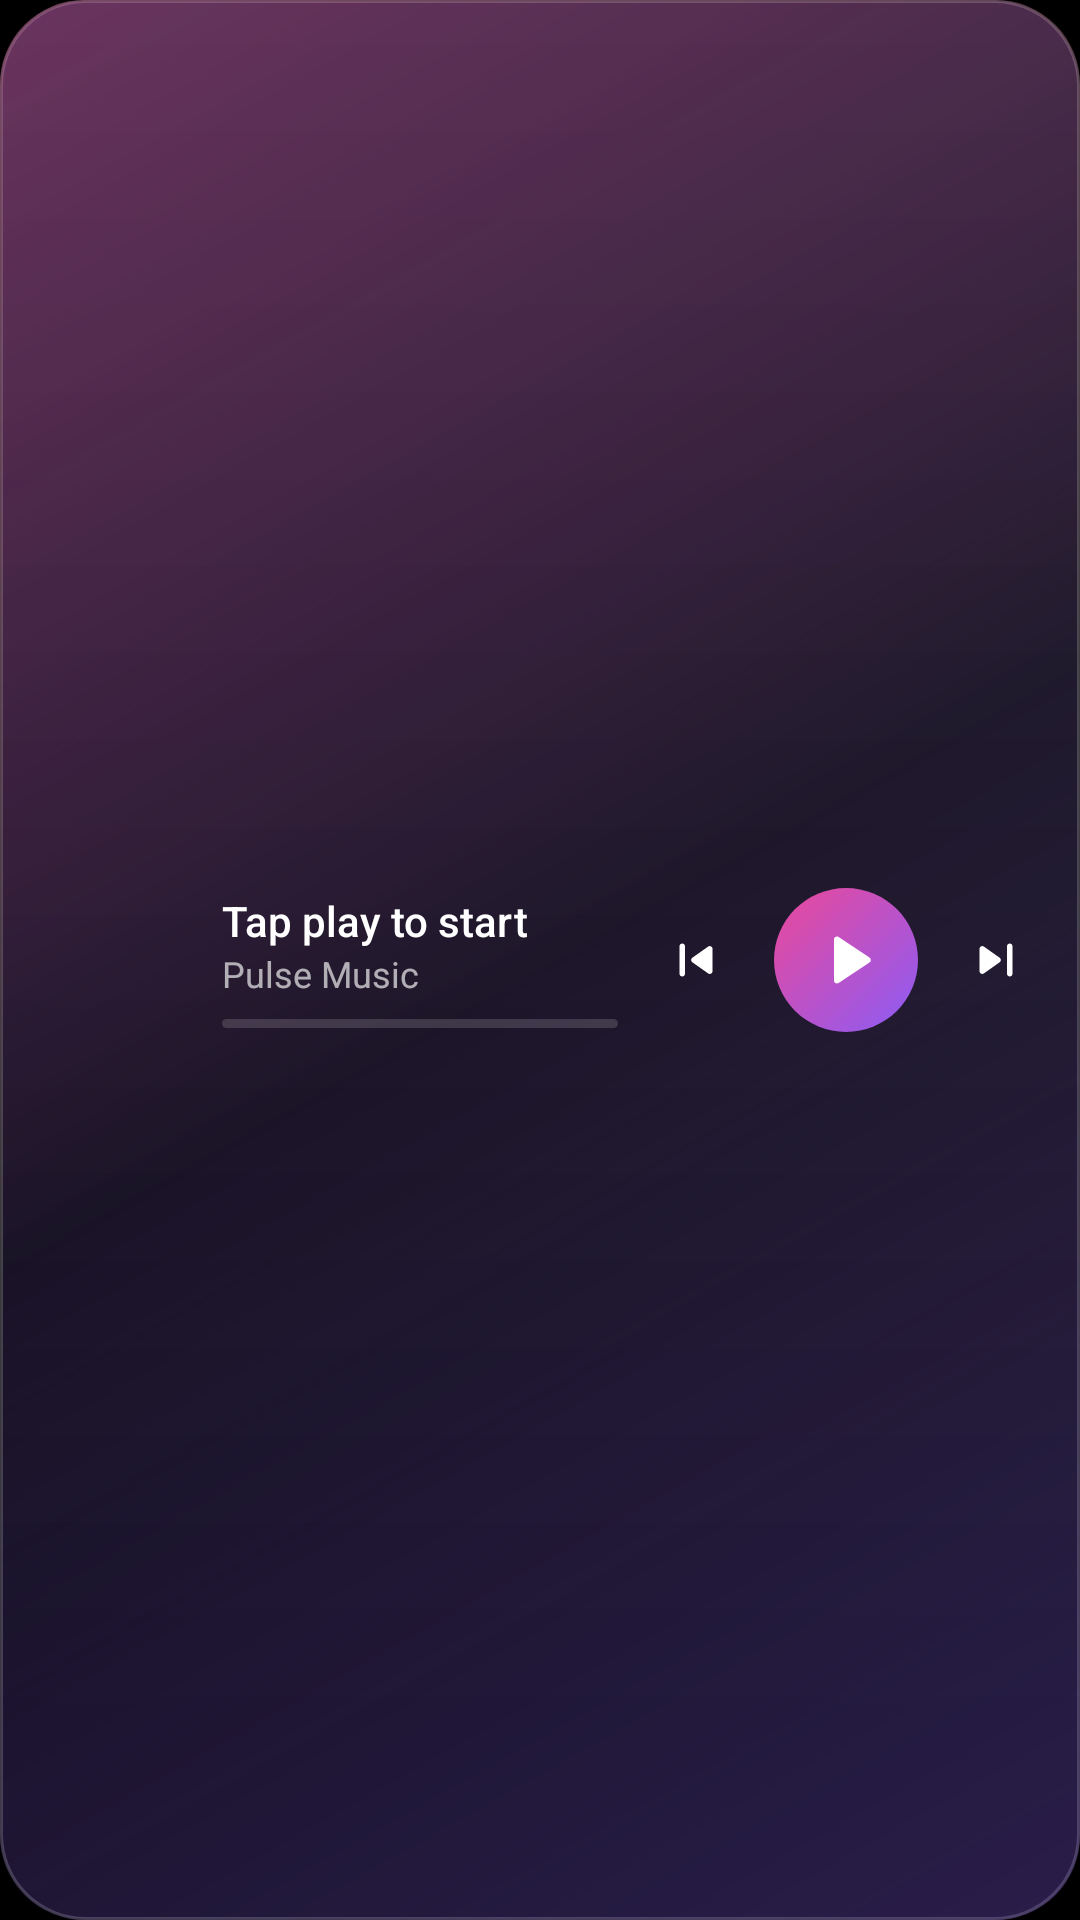

Named icons in this screenshot (1080 x 1920) and their centers, (x,y):
Next track: (996,960)
Play or pause: (846,960)
Previous track: (696,960)
